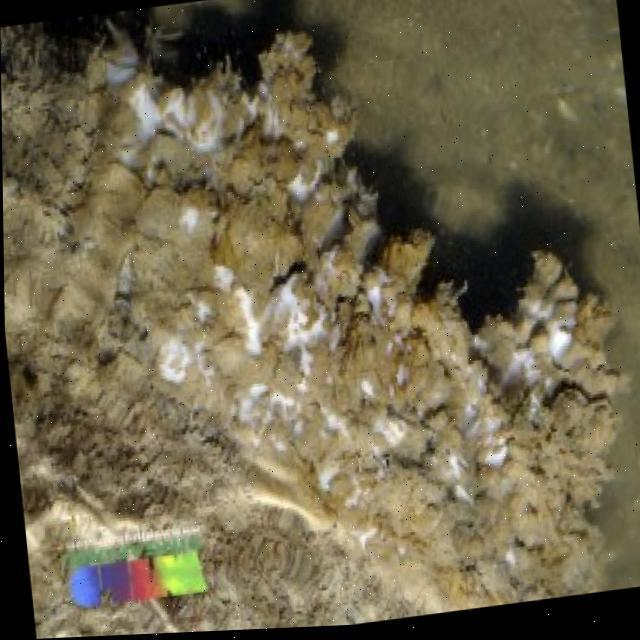Bleached Coral: (208, 286, 346, 356), (116, 82, 238, 150), (234, 384, 324, 446), (522, 308, 602, 368)
